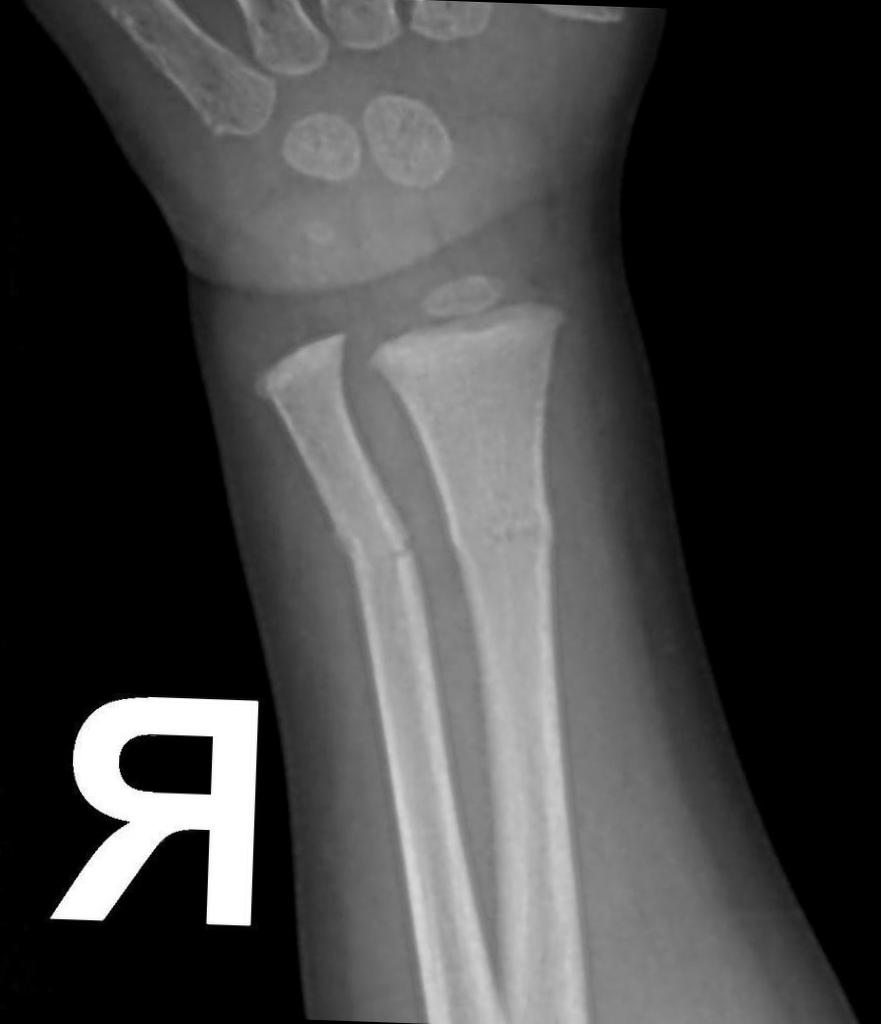angle: (380, 531, 417, 567)
line: (471, 500, 558, 556)
